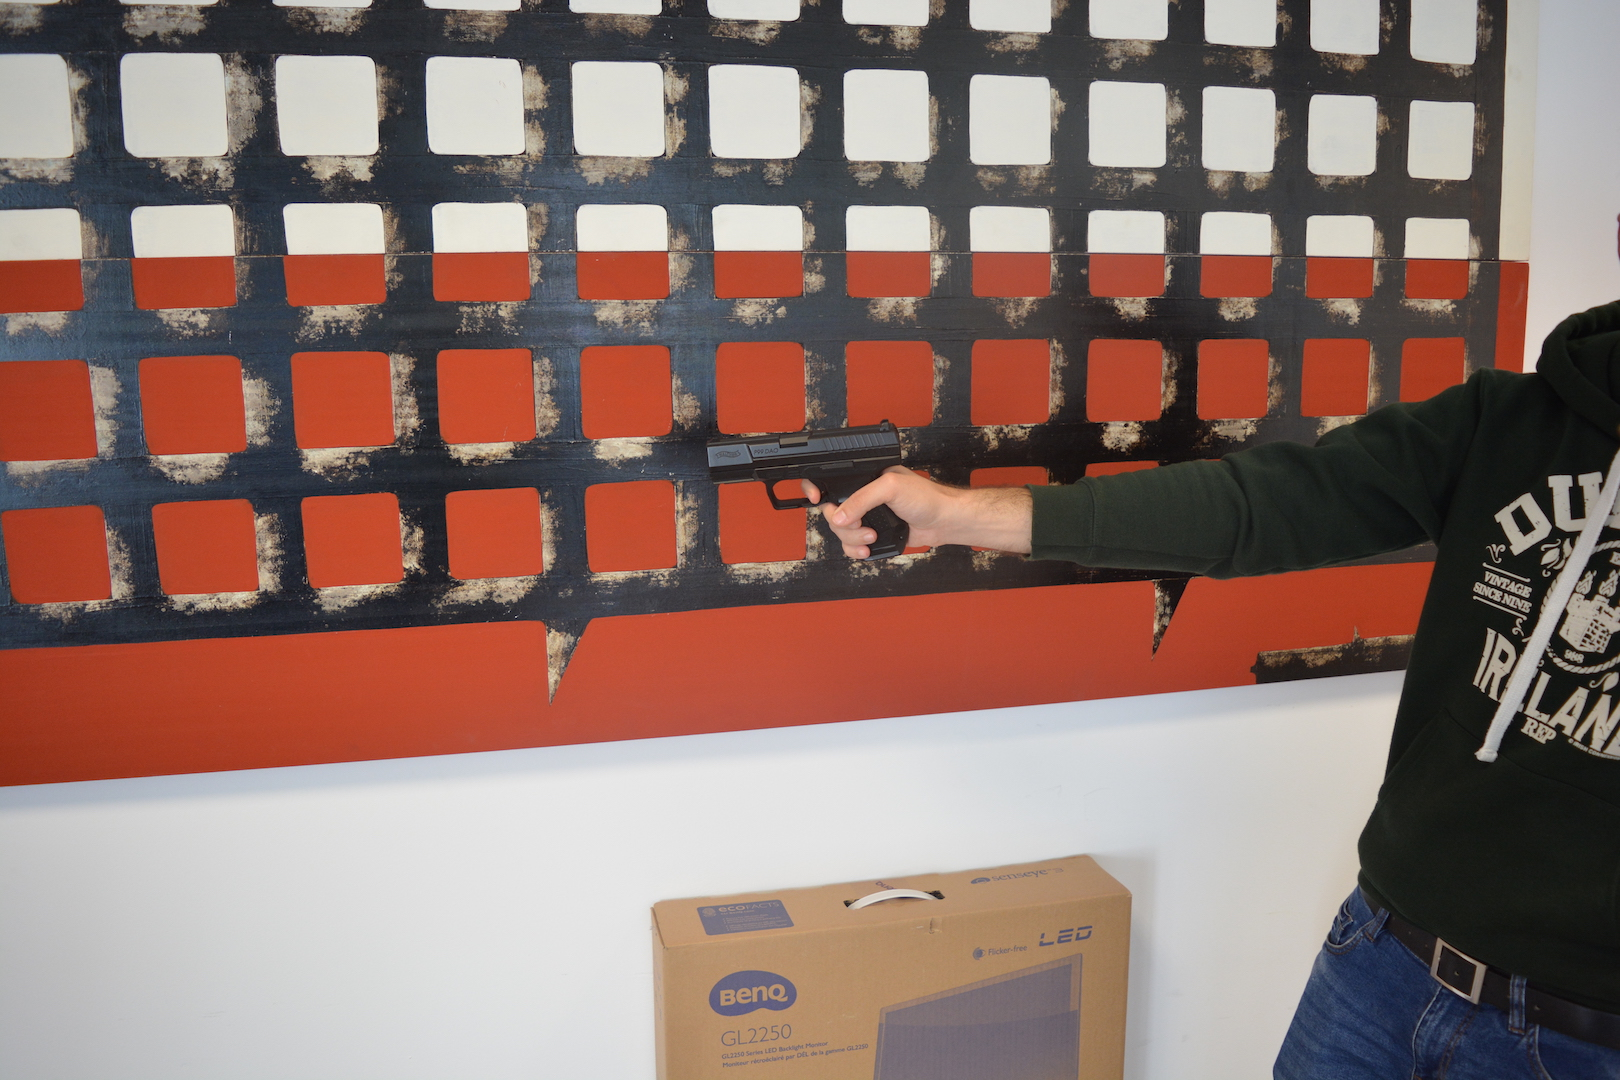pistol: (706, 418, 911, 560)
